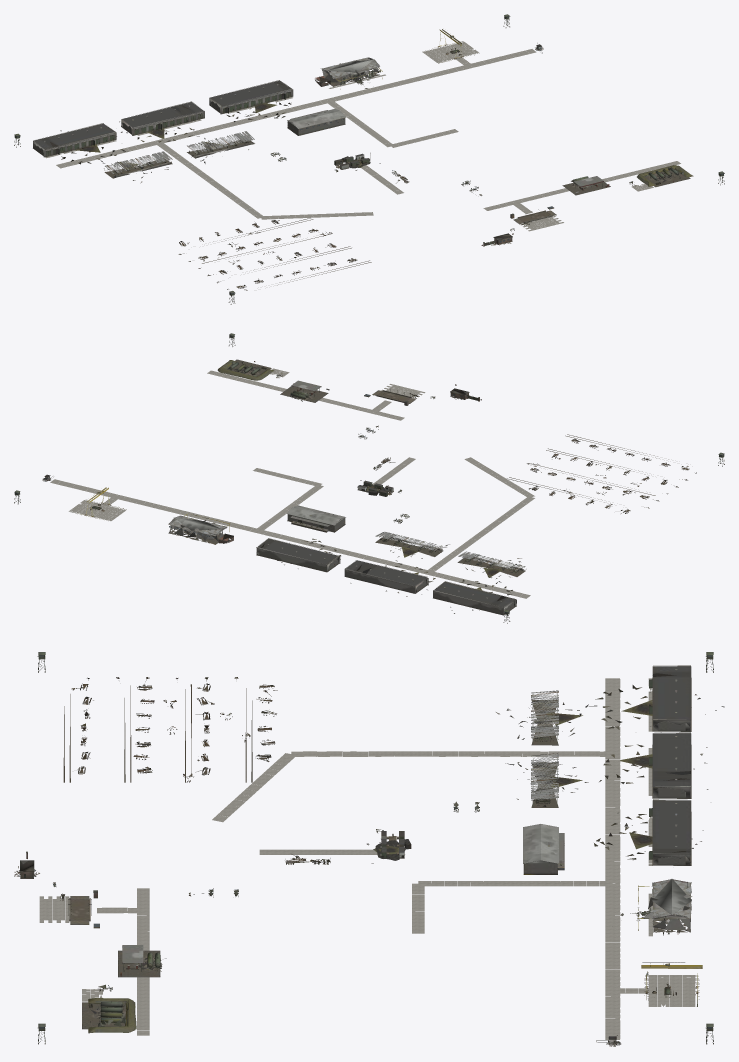
Rendered from site_wreck_a_lo.glb.
3 views of the same model, one above another, from view 1: azimuth 30°, elevation 25°; view 2: azimuth 150°, elevation 25°; view 3: azimuth 270°, elevation 25° (orthographic). The views are drawn at different scales.
Visible parts, largest first — view 1: deco|tile_conc, deco|A_A, b_box3|A_A, b_box1|A_A, b_box2|A_A, b_store|A_A, b_shop|A_A, b_shop_ruin|A_B, b_shelter1|A_A, b_shelter2|A_A, b_gsm|A_A, b_fuel|A_A (+2 smaller); view 2: deco|tile_conc, deco|A_A, b_box3|A_A, b_box2|A_A, b_box1|A_A, b_store|A_A, b_shop_ruin|A_B, b_shop|A_A, b_shelter1|A_A, b_shelter2|A_A, b_gsm|A_A, b_fuel|A_A (+2 smaller); view 3: deco|tile_conc, deco|A_A, b_box3|A_A, b_box1|A_A, b_box2|A_A, b_store|A_A, b_gsm|A_A, b_shelter2|A_A, b_shop|A_A, b_shelter1|A_A, b_shop_ruin|A_B, b_fuel|A_A (+7 smaller).
Part boxes in pixels (box(x1,y1,x2,y2)): deco|tile_conc: box(45, 42, 680, 231); deco|A_A: box(14, 14, 724, 304); b_box3|A_A: box(209, 80, 293, 114); b_box1|A_A: box(33, 123, 116, 157); b_box2|A_A: box(121, 101, 204, 135); b_store|A_A: box(287, 109, 345, 135); b_shop|A_A: box(315, 57, 382, 86); b_shop_ruin|A_B: box(315, 57, 382, 89); b_shelter1|A_A: box(104, 151, 172, 178); b_shelter2|A_A: box(187, 131, 254, 157); b_gsm|A_A: box(637, 165, 693, 187); b_fuel|A_A: box(562, 176, 610, 195); deco|tile_conc: box(50, 368, 534, 598); deco|A_A: box(14, 333, 724, 623); b_box3|A_A: box(256, 538, 340, 572); b_box2|A_A: box(344, 560, 428, 593); b_box1|A_A: box(433, 581, 516, 615); b_store|A_A: box(287, 505, 345, 532); b_shop_ruin|A_B: box(168, 514, 233, 543); b_shop|A_A: box(168, 513, 233, 544); b_shelter1|A_A: box(458, 551, 525, 576); b_shelter2|A_A: box(375, 532, 442, 555); b_gsm|A_A: box(217, 359, 273, 380); b_fuel|A_A: box(280, 380, 329, 402); deco|tile_conc: box(39, 678, 695, 1039); deco|A_A: box(37, 652, 713, 1044); b_box3|A_A: box(649, 799, 691, 865); b_box1|A_A: box(649, 665, 691, 731); b_box2|A_A: box(649, 732, 691, 798); b_store|A_A: box(523, 824, 564, 874); b_gsm|A_A: box(82, 998, 136, 1032); b_shelter2|A_A: box(531, 752, 558, 807); b_shop|A_A: box(630, 879, 691, 934); b_shelter1|A_A: box(531, 690, 558, 744); b_shop_ruin|A_B: box(620, 880, 692, 935); b_fuel|A_A: box(118, 945, 160, 977).
Size of the model in its own units: 424 by 15.47 by 336.
Materials: 43 (28 with a texture image).
